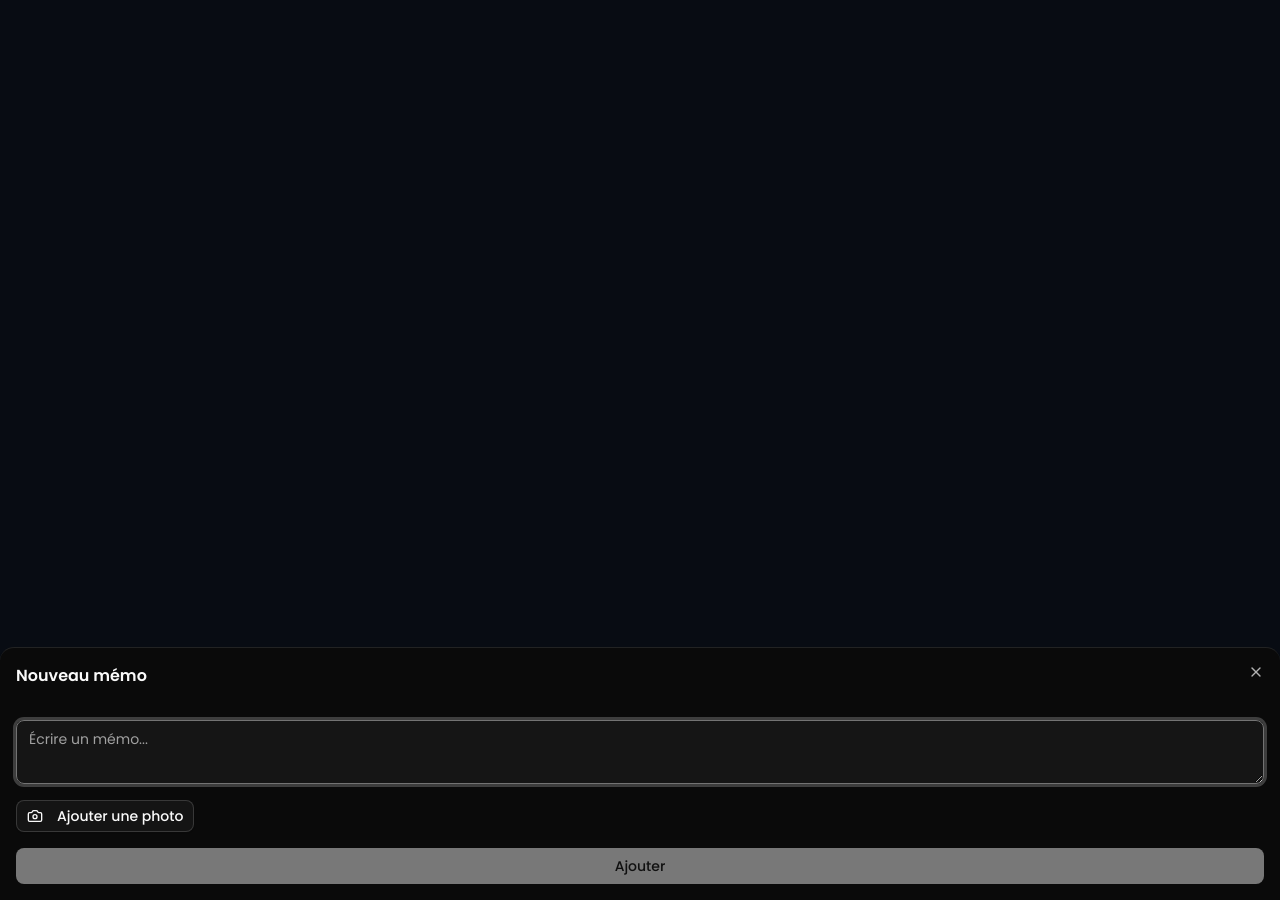
Test: MemoFormSheet › enables button when content is entered
The width and height of the screenshot is (1280, 900).
Type "Nouveau mémo test" into the text box with placeholder "Écrire un mémo..." at (640, 752), box [16,720,1264,784]
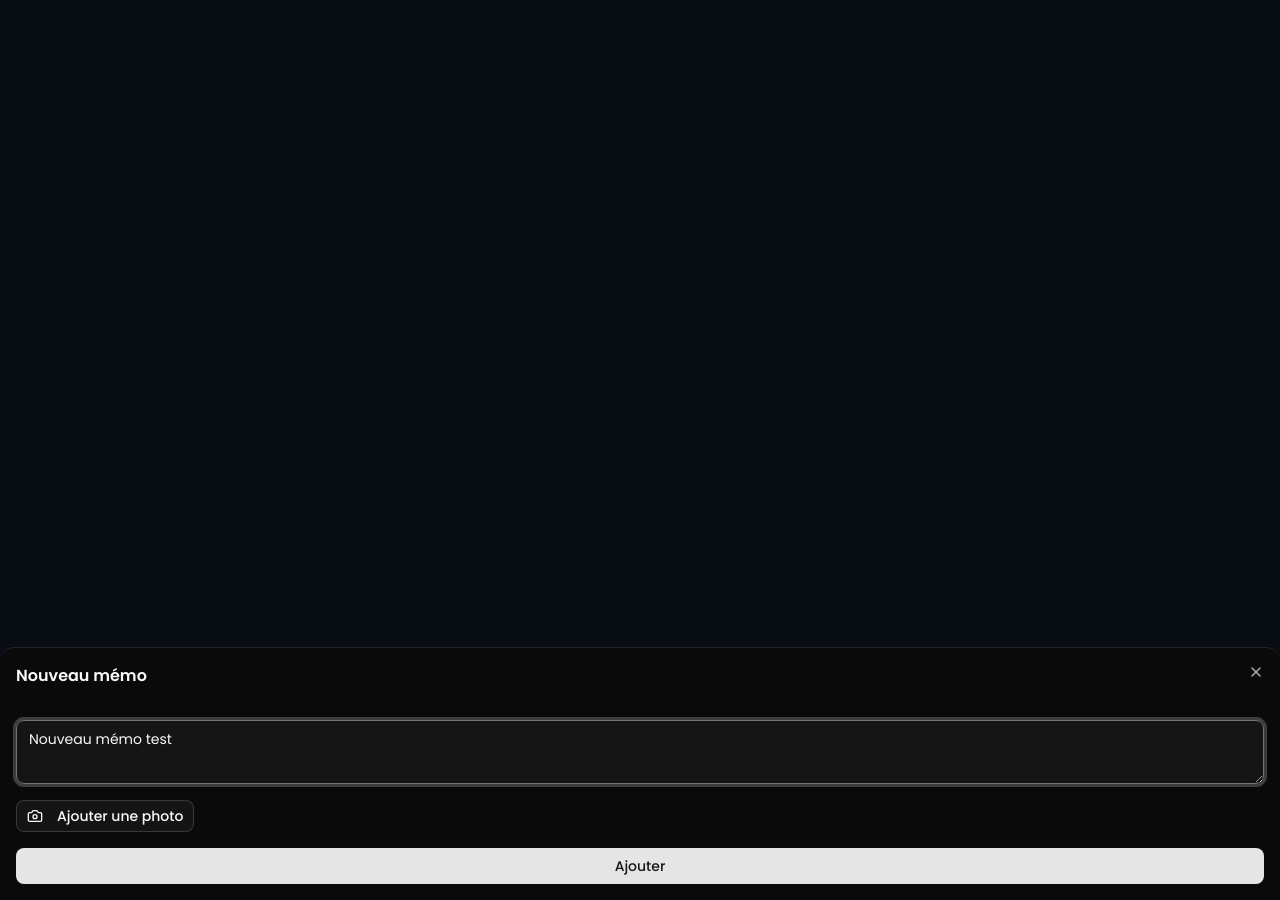
expect the button "Ajouter" is enabled: met, box [16,848,1264,884]
